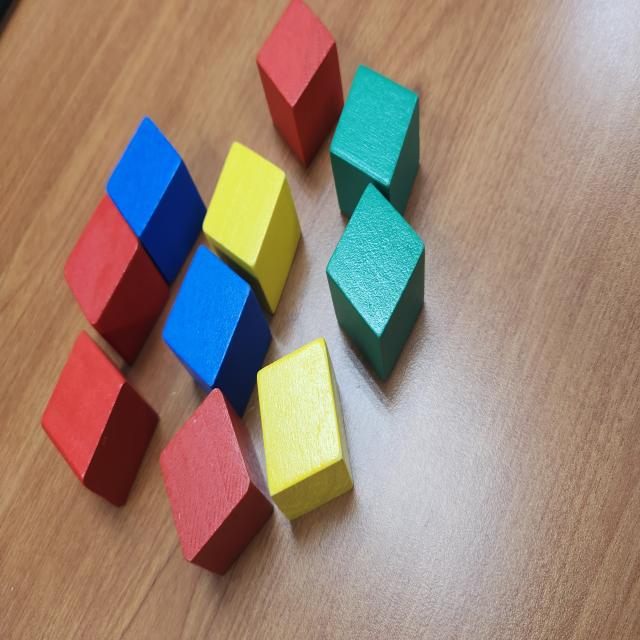blue: (162, 243, 273, 419), (106, 115, 209, 288)
green: (326, 182, 426, 384), (328, 62, 420, 220)
red: (41, 329, 161, 512), (160, 387, 276, 576), (63, 192, 170, 366), (256, 1, 344, 170)
yellow: (256, 337, 354, 522), (201, 140, 303, 316)
